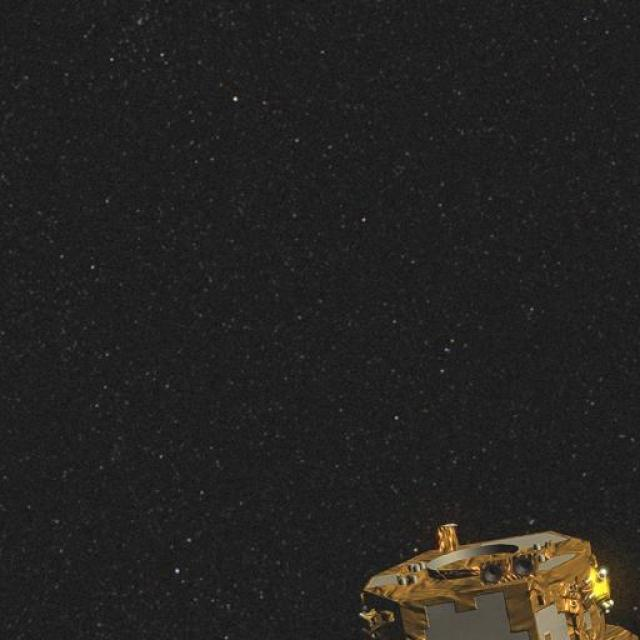lisa_pathfinder: (327, 499, 640, 640)
